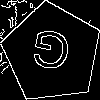G: (27, 28, 74, 81)
